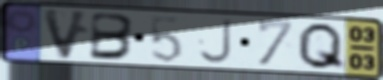5: (148, 14, 187, 64)
7: (255, 18, 295, 68)
B: (87, 11, 138, 62)
J: (196, 18, 234, 66)
Q: (294, 21, 348, 72)
V: (40, 7, 92, 62)
